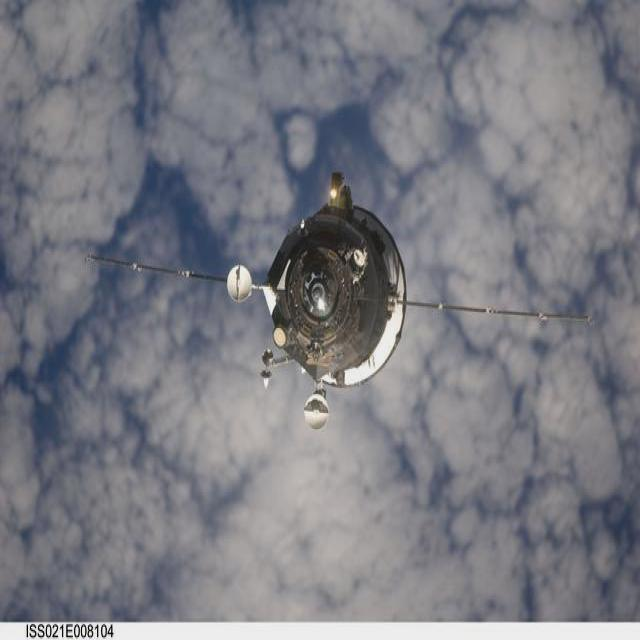medium_debris: (90, 172, 590, 428)
